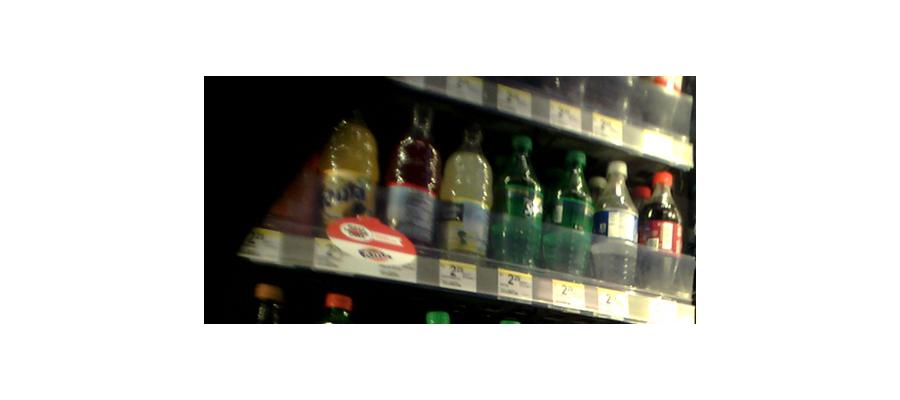bottle: (324, 95, 380, 239), (387, 103, 439, 255), (440, 124, 493, 263), (544, 149, 593, 278), (496, 133, 542, 270), (592, 159, 638, 292), (637, 165, 683, 293)
